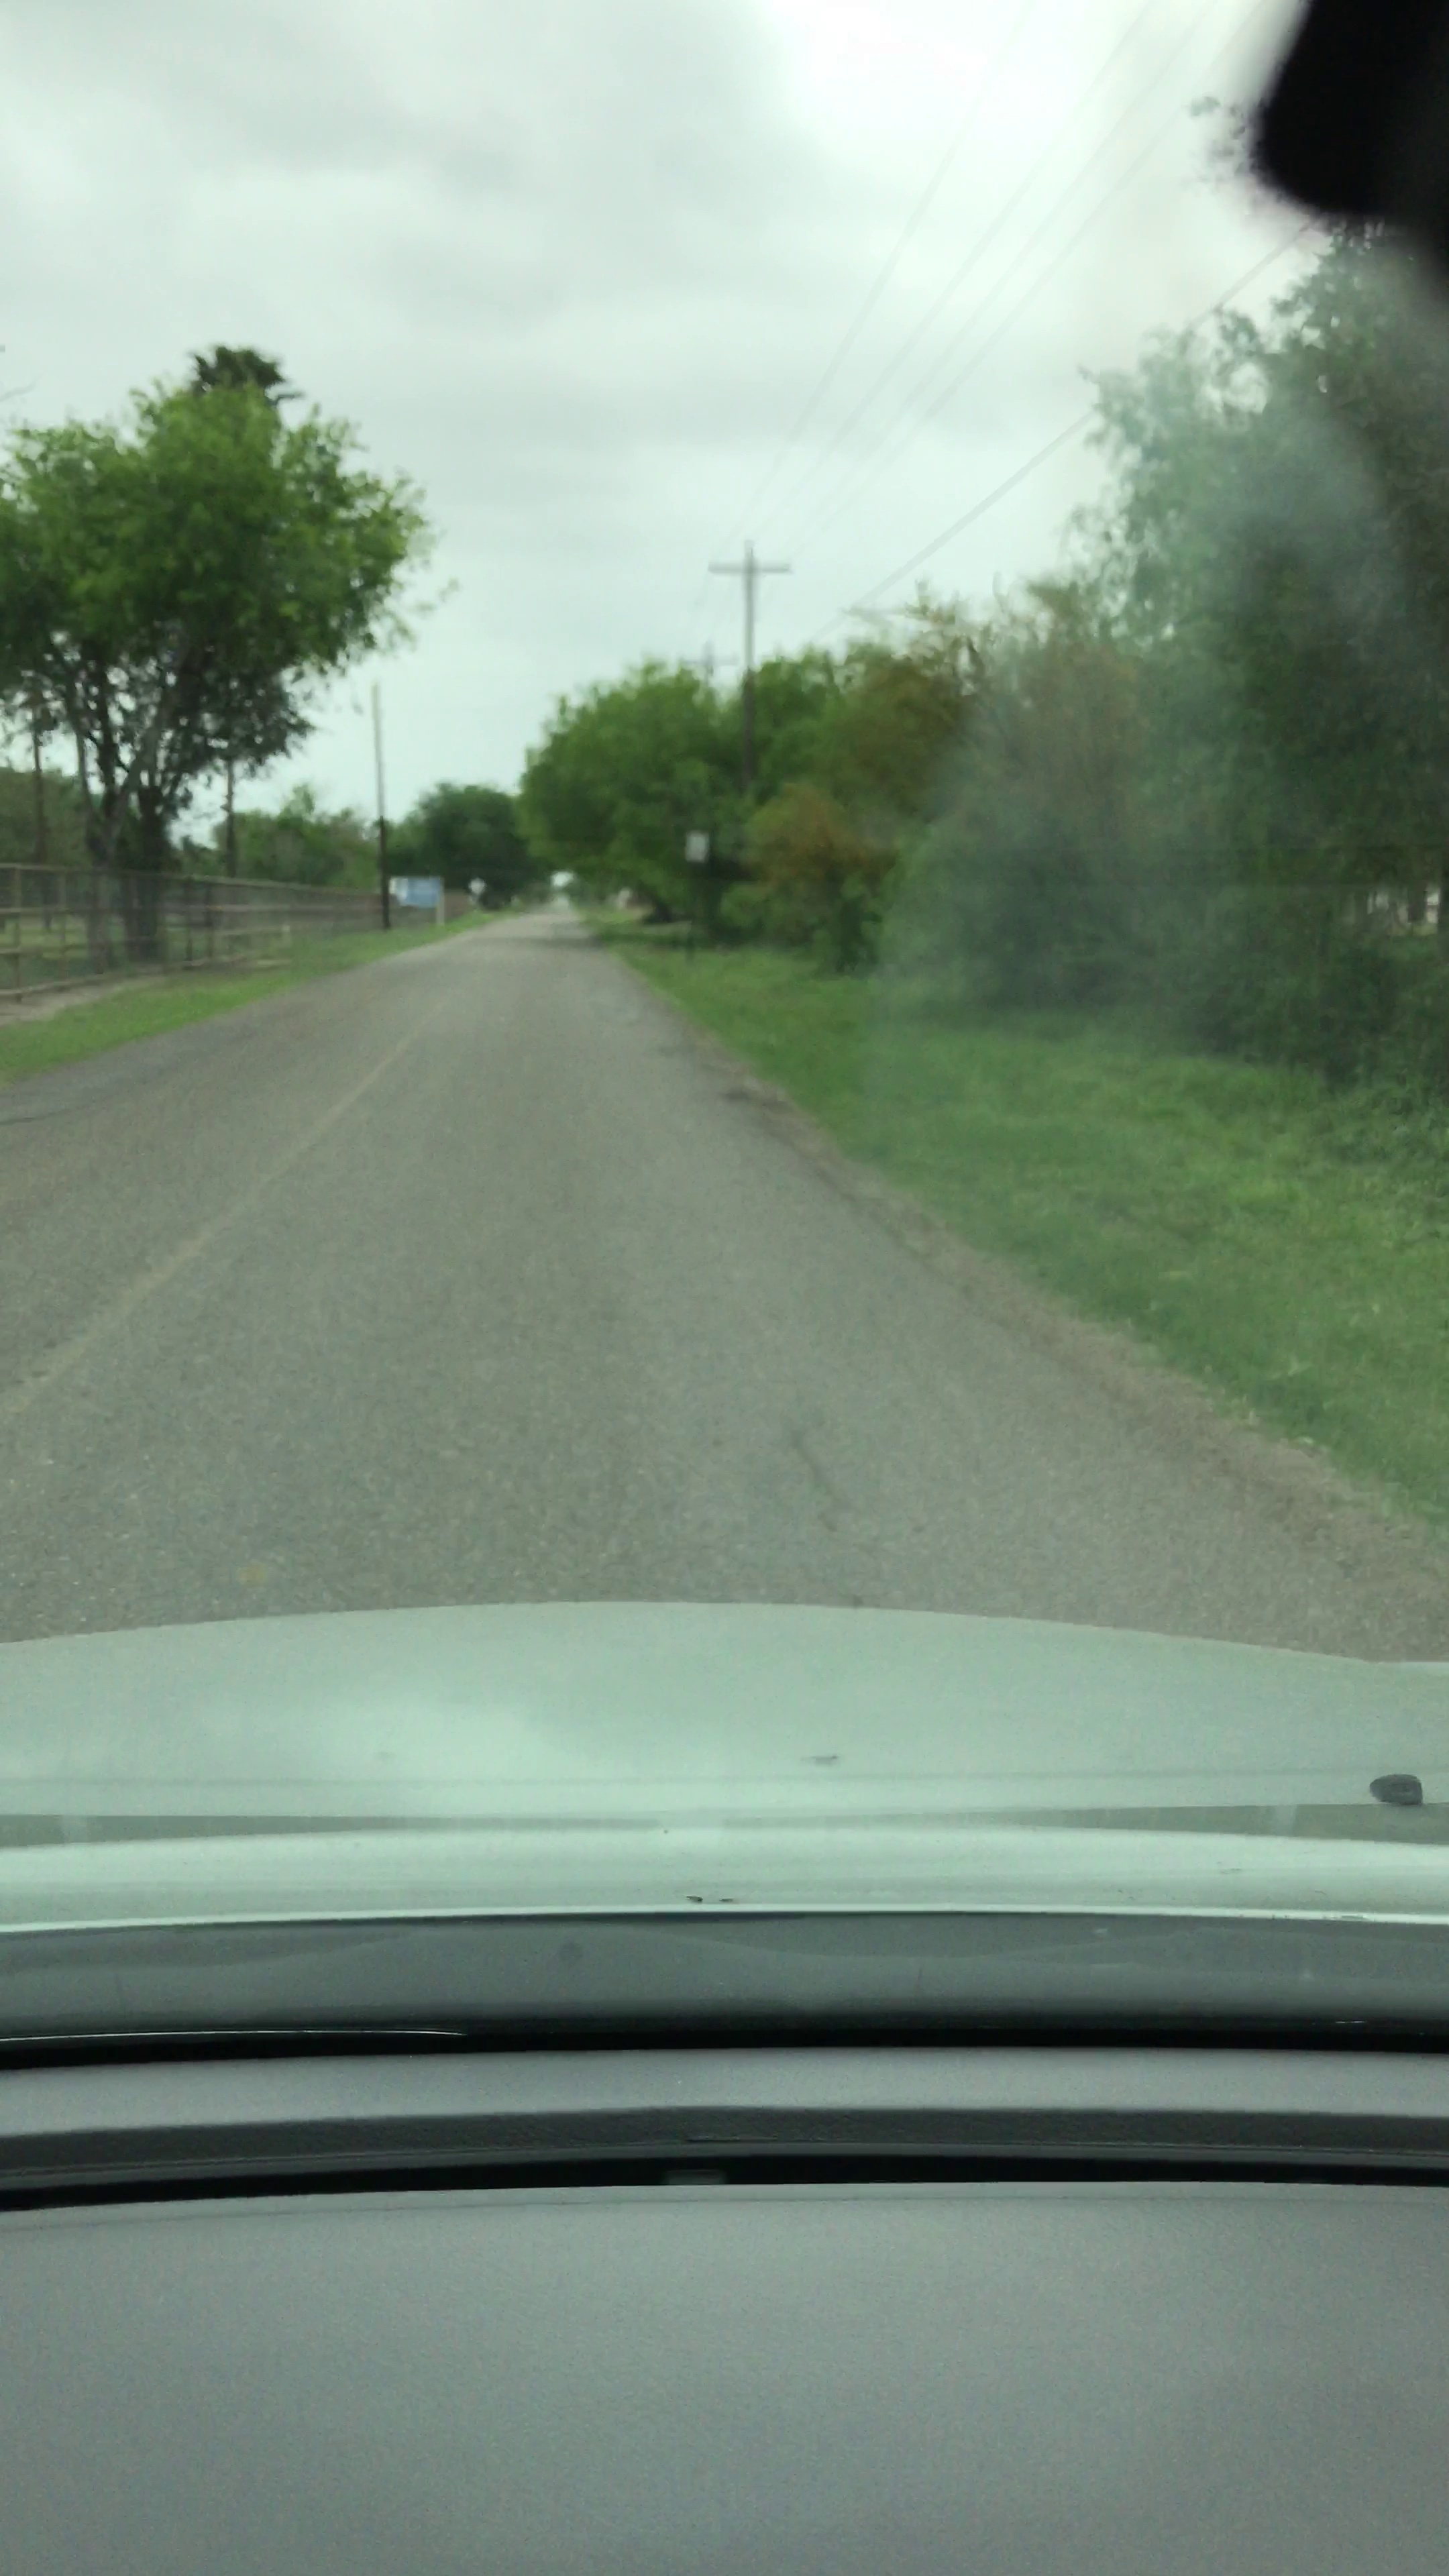blurredLine: (0, 1111, 329, 1477)
